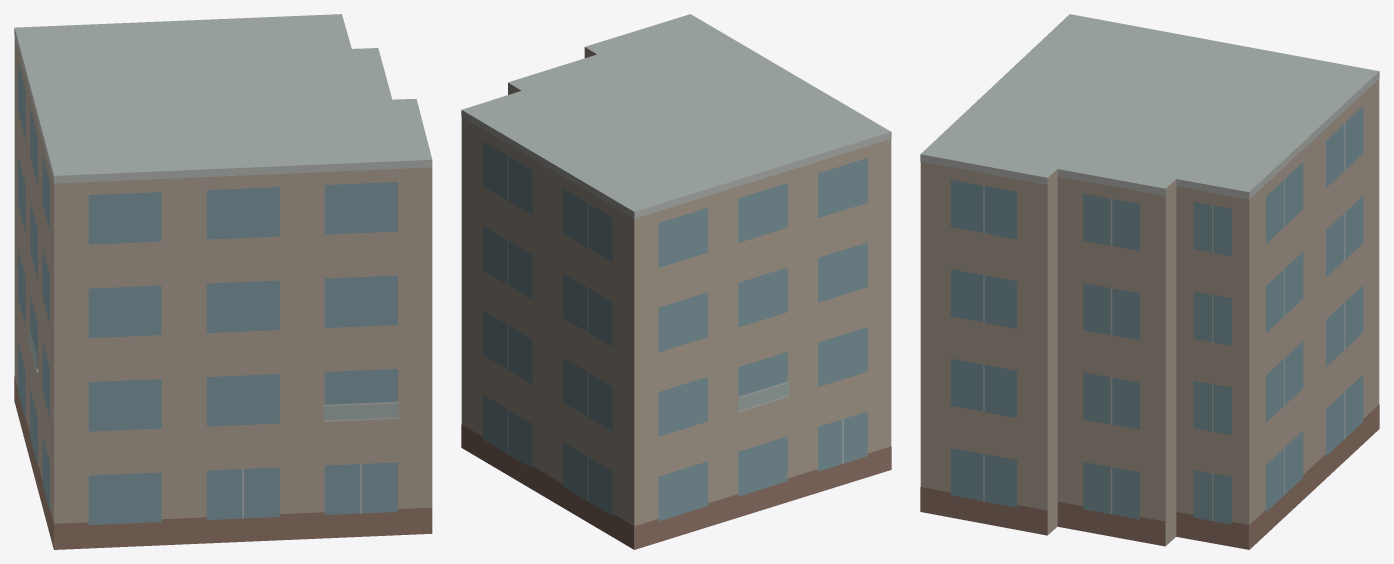
File: survey-upis-32529978.glb
3 views of the same model, side by side, from view 1: azimuth 30°, elevation 25°; view 2: azimuth 150°, elevation 25°; view 3: azimuth 270°, elevation 25° (orthographic). The views are drawn at different scales.
Parts seen in each view (by area): view 1: survey-upis-32529978.tmp; view 2: survey-upis-32529978.tmp; view 3: survey-upis-32529978.tmp.
Part boxes in pixels (x1,y1,x2,y2): survey-upis-32529978.tmp: (14,14,432,549); survey-upis-32529978.tmp: (461,14,891,549); survey-upis-32529978.tmp: (920,14,1379,549).
Size of the model in its own units: 12.72 by 11.9 by 13.85.
